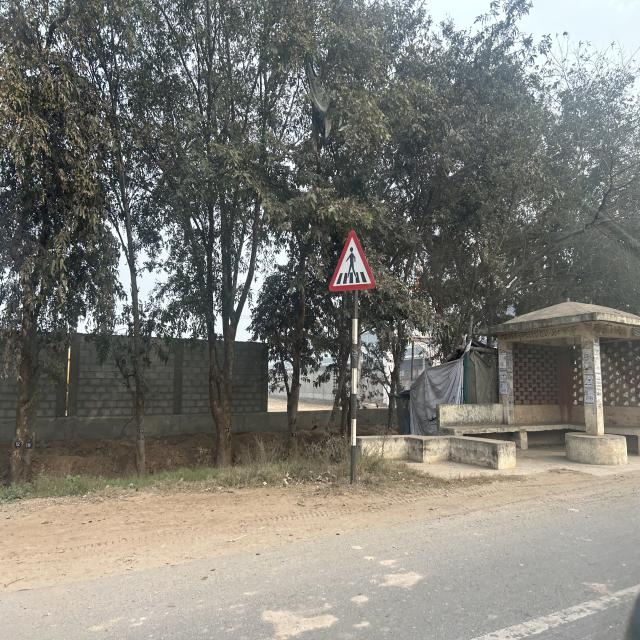PEDESTRIAN_CROSSING: (328, 230, 378, 292)
